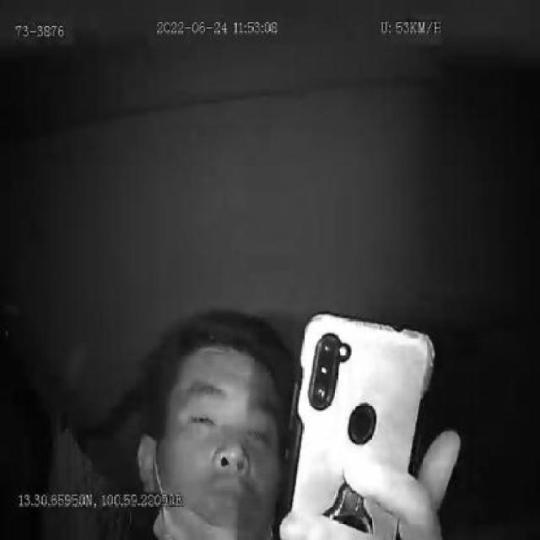phone: (282, 313, 436, 540)
